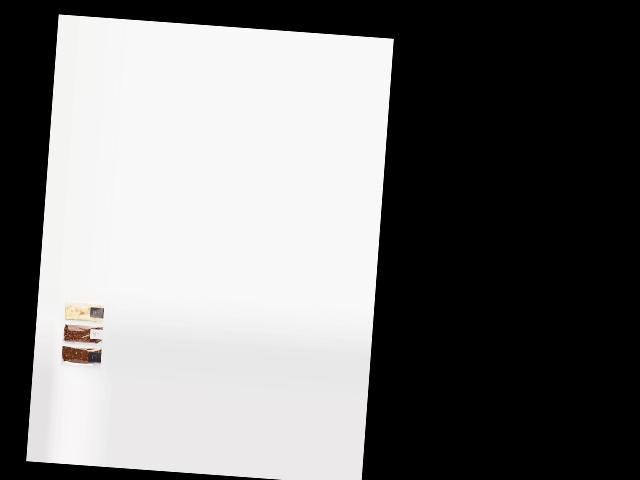chocolate: (59, 346, 101, 368)
